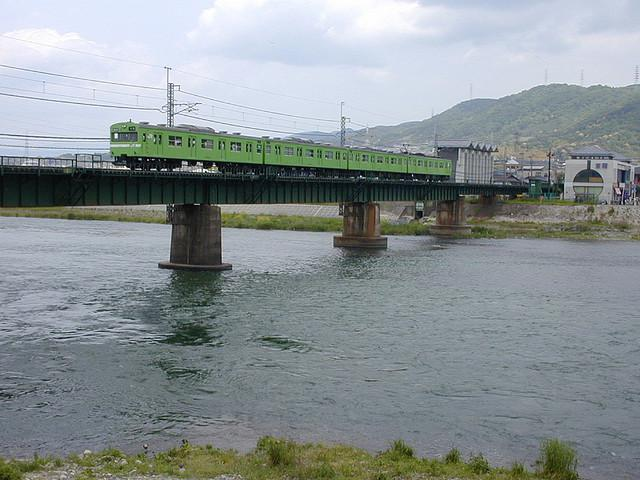Train: (110, 123, 453, 185)
